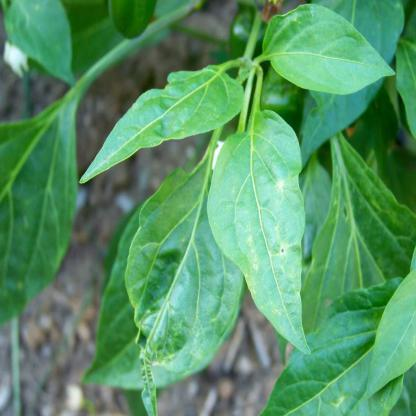Bell_pepper leaf: (125, 165, 252, 395), (209, 105, 312, 360), (75, 63, 246, 183), (264, 1, 400, 96)
